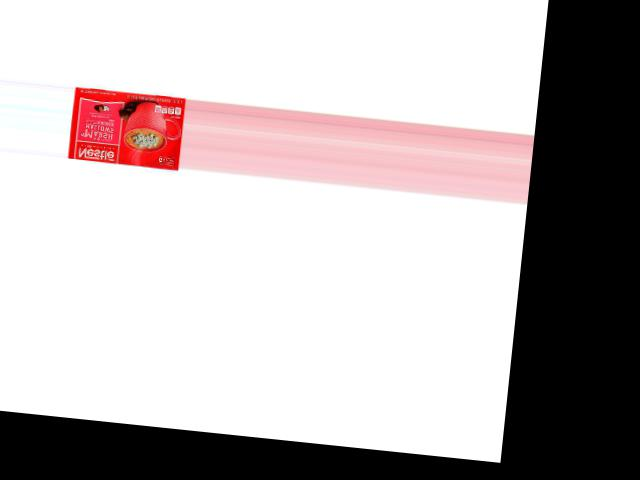chocolate: (70, 82, 187, 167)
